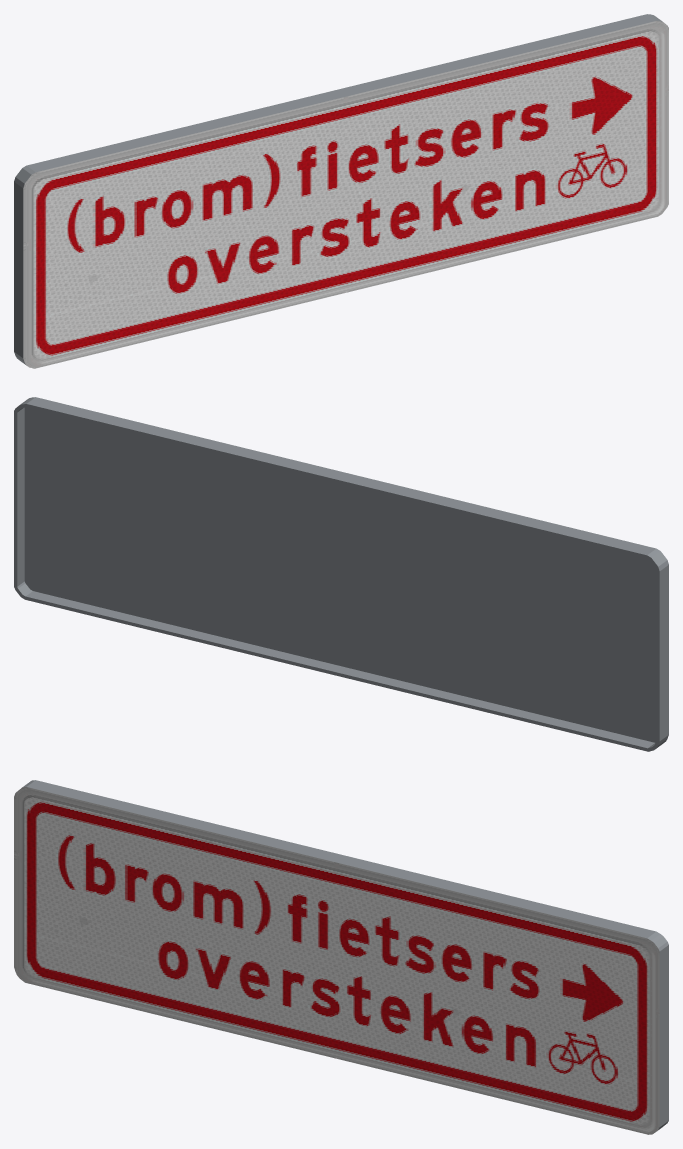
3 views of the same model, one above another, from view 1: azimuth 30°, elevation 25°; view 2: azimuth 150°, elevation 25°; view 3: azimuth 330°, elevation 25° (orthographic).
Visible parts, largest first — view 1: cat_3ecaa6b098afe6af; view 2: cat_3ecaa6b098afe6af; view 3: cat_3ecaa6b098afe6af.
Part boxes in pixels (x1,y1,x2,y2): cat_3ecaa6b098afe6af: (14, 14, 668, 368); cat_3ecaa6b098afe6af: (14, 397, 668, 751); cat_3ecaa6b098afe6af: (14, 780, 668, 1134).
Size of the model in its own units: 0.6 by 0.015 by 0.1742.
2 materials, 1 textured.
